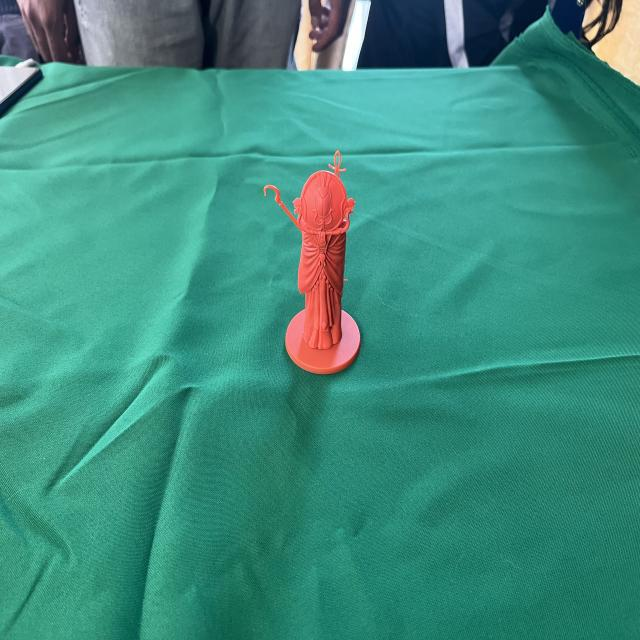amon: (260, 141, 364, 379)
